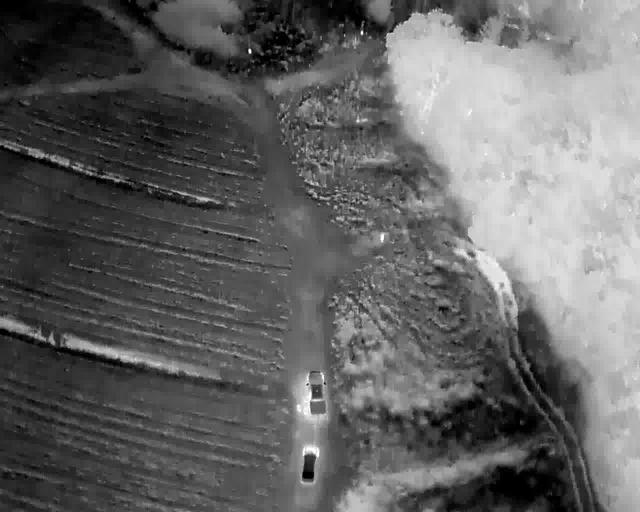car: (306, 369, 327, 416), (301, 442, 318, 484)
person: (379, 233, 385, 243), (295, 403, 301, 412)
